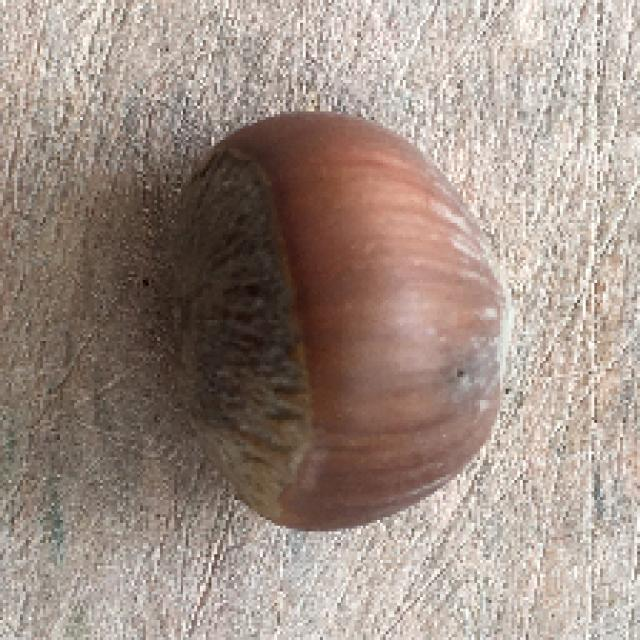DamagedHazelnut: (160, 109, 521, 535)
